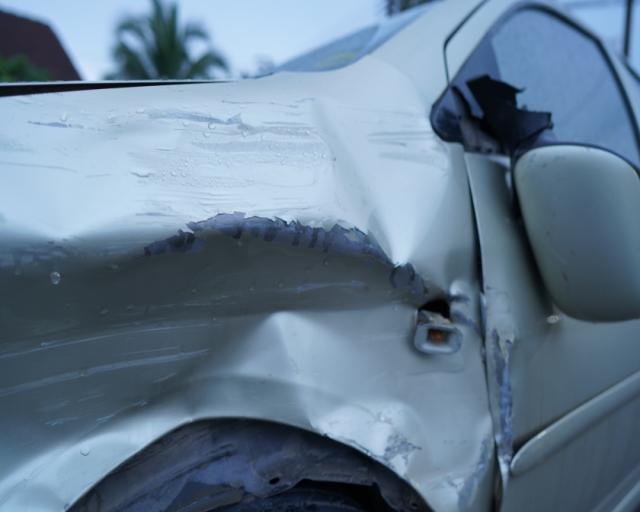dent: (0, 78, 499, 512)
scratch: (490, 320, 514, 465)
